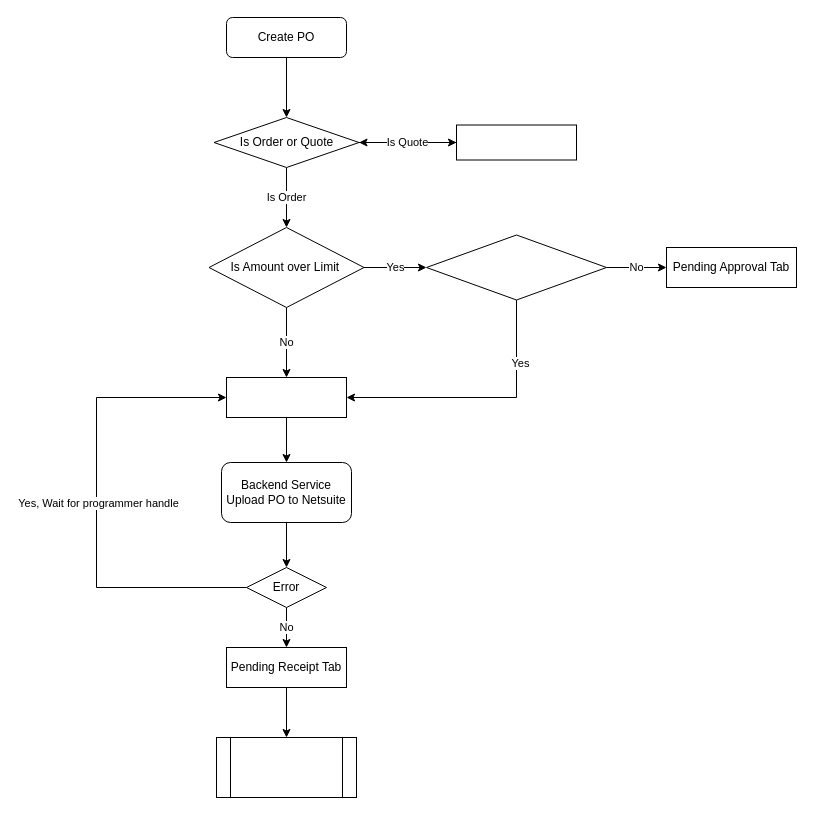
The diagram is 814 pixels wide and 815 high, and some of its shapes have lost their labels. The centre of each missing label's shape, as x and y in pixels:
Purchase Quote Tab: the point at 516,142
Supervisor Approval: the point at 516,267
The previous IR process.: the point at 286,767
Waiting In NS Tab: the point at 286,397
